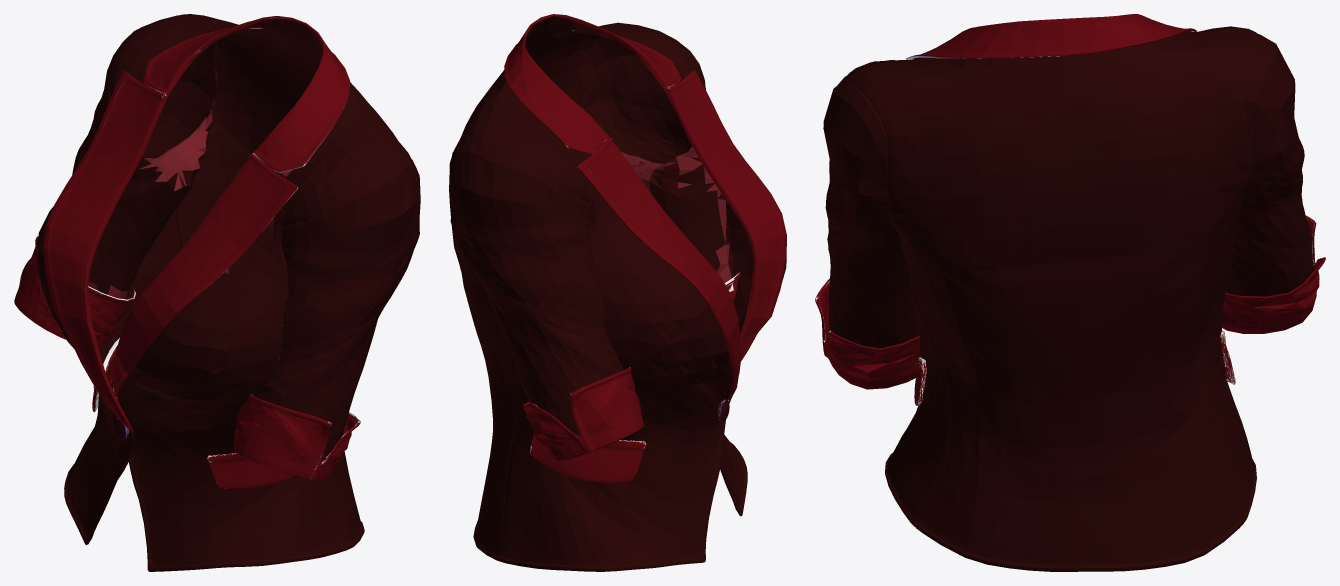
File: armature.fbx
3 renders of one model, left to right at view 1: azimuth 30°, elevation 25°; view 2: azimuth 150°, elevation 25°; view 3: azimuth 270°, elevation 25°, orthographic. The views are drawn at different scales.
Visible parts, largest first — view 1: objFigure0; view 2: objFigure0; view 3: objFigure0.
Boxes of the visible parts, bbox=[...] form: objFigure0: bbox=[14, 14, 420, 571]; objFigure0: bbox=[449, 14, 786, 571]; objFigure0: bbox=[815, 14, 1325, 571].
Size of the model in its own units: 1.1 by 1.88 by 1.61.
